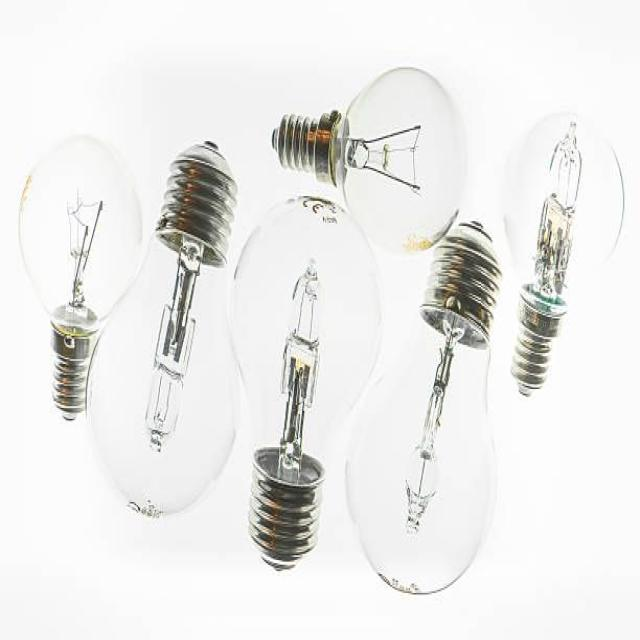electronic: (17, 62, 624, 594), (344, 218, 503, 595), (83, 138, 240, 519), (227, 193, 384, 571), (270, 63, 466, 254), (17, 132, 143, 420), (502, 108, 624, 397)
